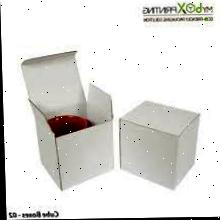cube: (25, 106, 113, 191), (115, 102, 200, 189)
